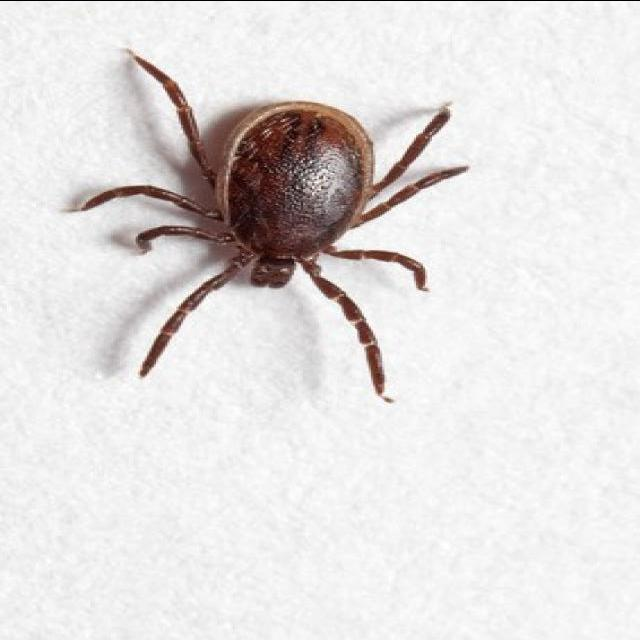Ixodes Ricinus-M: (57, 47, 470, 399)
